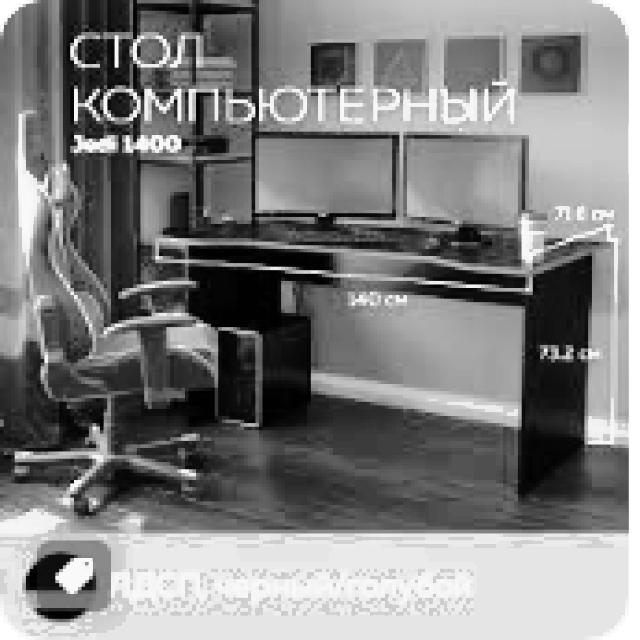table: (152, 217, 614, 498)
